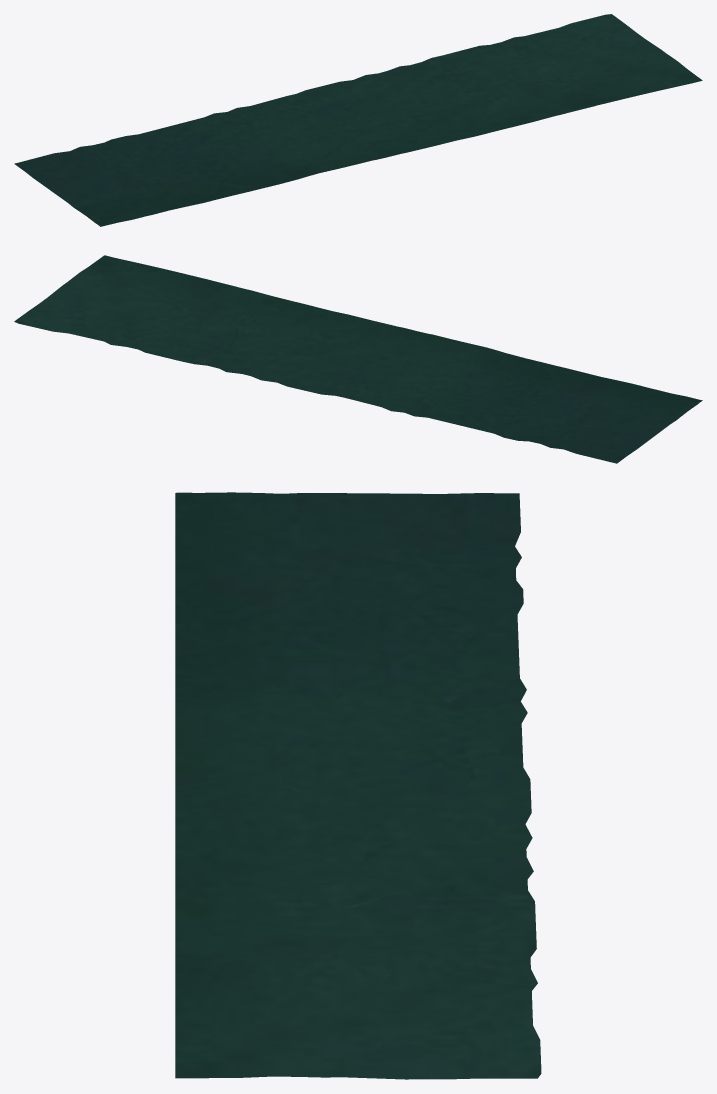
The picture shows the model from 3 angles, top to bottom: view 1: azimuth 30°, elevation 25°; view 2: azimuth 150°, elevation 25°; view 3: azimuth 270°, elevation 25°; orthographic projection. The views are drawn at different scales.
Bounding box in the file's own units: 209 × 0.5679 × 55.33.
Materials: 1 (1 with a texture image).
